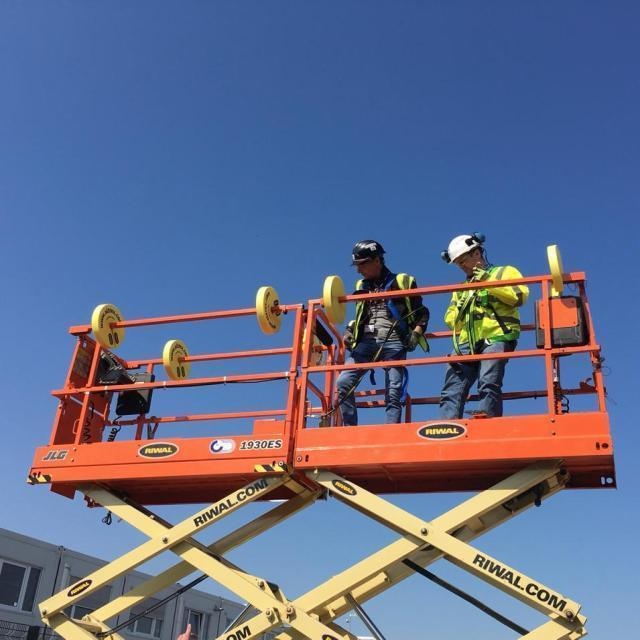Arnes_seguridad: (454, 268, 517, 351), (356, 275, 407, 362)
